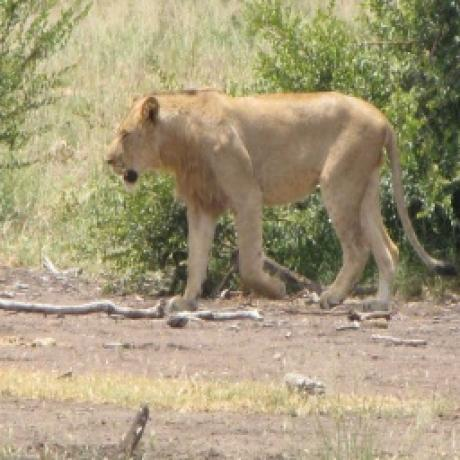Lion: (102, 85, 460, 314)
